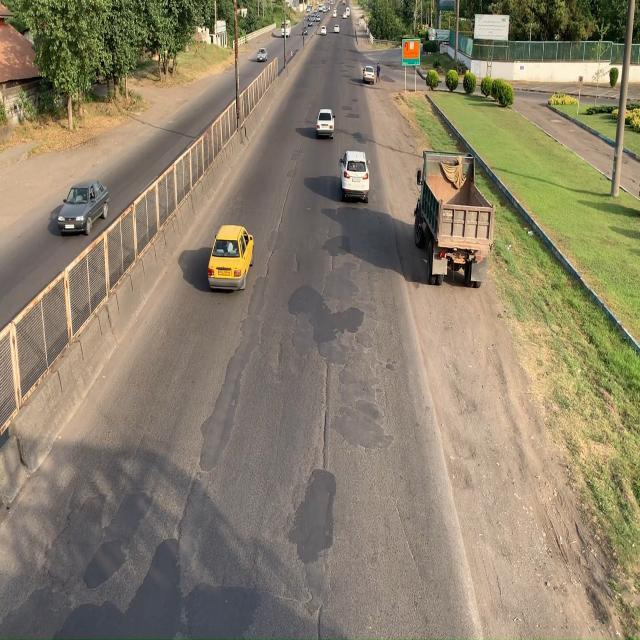Truck: (415, 148, 494, 286)
cars: (57, 178, 109, 236), (208, 226, 254, 290), (339, 148, 370, 203), (316, 104, 334, 139)
